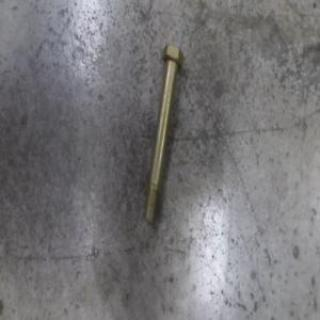Bolttrack_idkeyframe: (142, 42, 182, 226)
